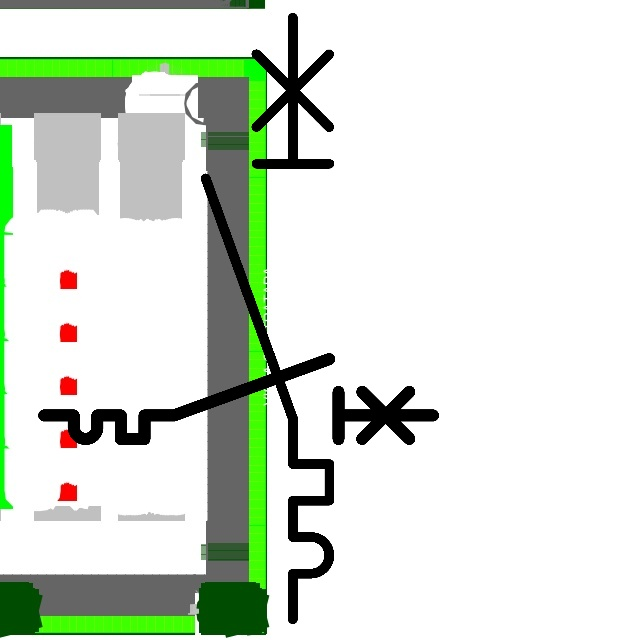interruptor_termomagnetico: (190, 2, 345, 635), (34, 349, 443, 449)
